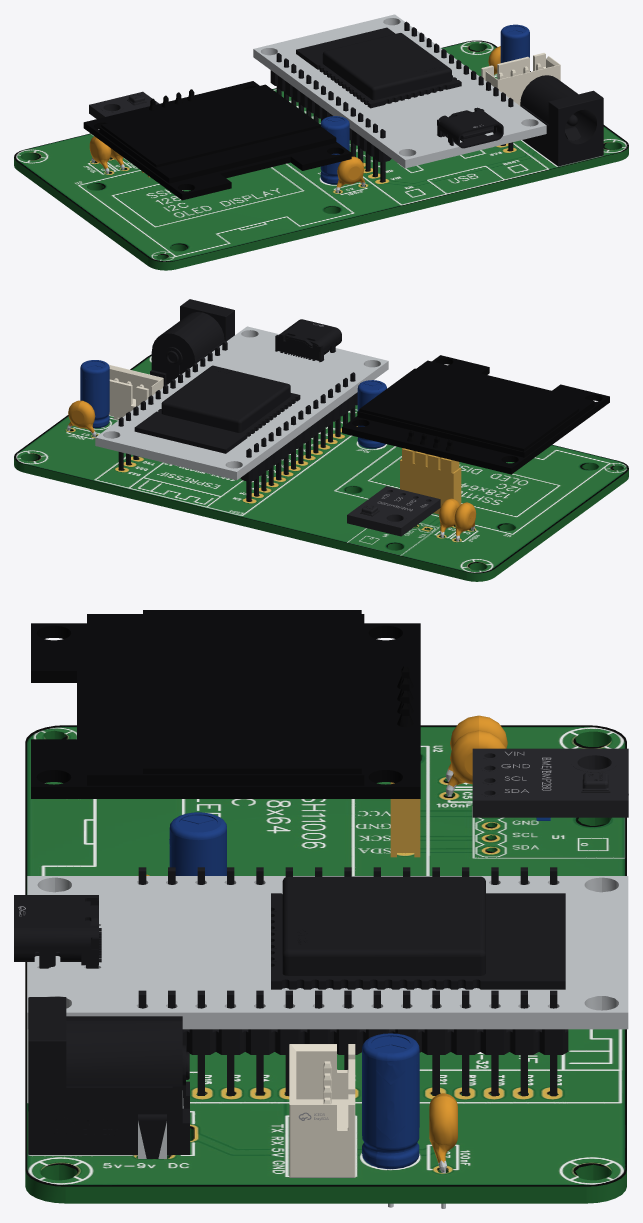
File: board.glb
3 renders of one model, top to bottom at view 1: azimuth 30°, elevation 25°; view 2: azimuth 150°, elevation 25°; view 3: azimuth 270°, elevation 25°, orthographic. The views are drawn at different scales.
Visible parts, largest first — view 1: Board-mesh, ESP1-mesh (×5), U2-mesh, DC1-mesh, CN1-mesh, C6-mesh, C1-mesh, C2-mesh, U1-mesh, C4-mesh; view 2: Board-mesh, ESP1-mesh (×6), U2-mesh (×3), DC1-mesh (×2), U1-mesh, CN1-mesh, C6-mesh, C1-mesh, C7-mesh, C4-mesh, C5-mesh; view 3: ESP1-mesh (×5), Board-mesh, U2-mesh (×2), DC1-mesh (×2), U1-mesh, CN1-mesh, C6-mesh, C1-mesh, C7-mesh, C5-mesh, C4-mesh.
Part boxes in pixels (x1=…): Board-mesh: x1=14, y1=40, x2=628, y2=270; ESP1-mesh (×5): x1=253, y1=14, x2=546, y2=182; U2-mesh: x1=83, y1=81, x2=351, y2=200; DC1-mesh: x1=520, y1=75, x2=603, y2=166; CN1-mesh: x1=481, y1=53, x2=560, y2=105; C6-mesh: x1=500, y1=24, x2=529, y2=62; C1-mesh: x1=320, y1=116, x2=349, y2=184; C2-mesh: x1=336, y1=156, x2=365, y2=193; U1-mesh: x1=89, y1=91, x2=159, y2=118; C4-mesh: x1=89, y1=136, x2=111, y2=173; Board-mesh: x1=14, y1=354, x2=628, y2=581; ESP1-mesh (×6): x1=95, y1=319, x2=388, y2=501; U2-mesh (×3): x1=342, y1=355, x2=609, y2=514; DC1-mesh (×2): x1=150, y1=299, x2=234, y2=385; U1-mesh: x1=347, y1=486, x2=440, y2=536; CN1-mesh: x1=108, y1=364, x2=163, y2=419; C6-mesh: x1=80, y1=360, x2=109, y2=428; C1-mesh: x1=357, y1=380, x2=386, y2=448; C7-mesh: x1=67, y1=400, x2=96, y2=437; C4-mesh: x1=454, y1=502, x2=476, y2=541; C5-mesh: x1=439, y1=498, x2=459, y2=537; ESP1-mesh (×5): x1=14, y1=867, x2=628, y2=1096; Board-mesh: x1=25, y1=725, x2=626, y2=1203; U2-mesh (×2): x1=31, y1=610, x2=420, y2=857; DC1-mesh (×2): x1=28, y1=997, x2=189, y2=1158; U1-mesh: x1=472, y1=748, x2=628, y2=817; CN1-mesh: x1=289, y1=1044, x2=355, y2=1177; C6-mesh: x1=362, y1=1033, x2=419, y2=1207; C1-mesh: x1=169, y1=812, x2=226, y2=875; C7-mesh: x1=429, y1=1093, x2=457, y2=1208; C5-mesh: x1=446, y1=730, x2=505, y2=796; C4-mesh: x1=446, y1=715, x2=507, y2=781.
Bounding box in the file's own units: 0.0945 × 0.0189 × 0.0532.
Materials: 14 (2 with a texture image).
